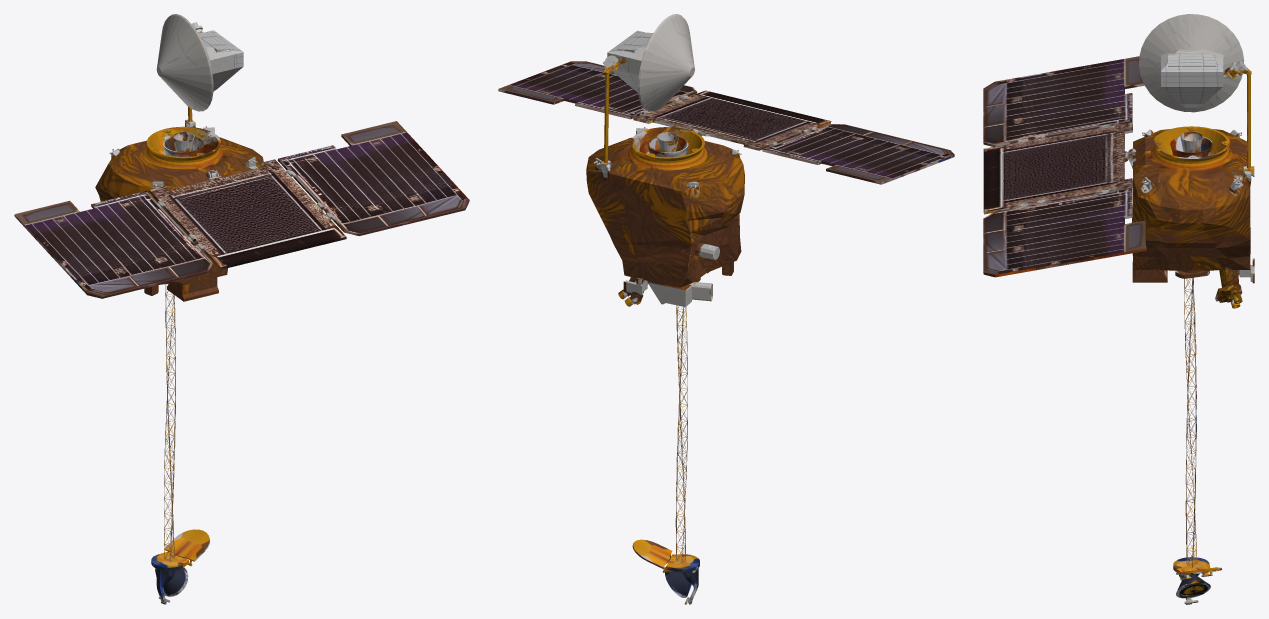
Rendered from marsodessay1.glb.
3 renders of one model, left to right at view 1: azimuth 30°, elevation 25°; view 2: azimuth 150°, elevation 25°; view 3: azimuth 270°, elevation 25°, orthographic. The views are drawn at different scales.
Parts seen in each view (by area): view 1: tripo_node_7899d9ef-e206-4824-a566-14c5953bdb96; view 2: tripo_node_7899d9ef-e206-4824-a566-14c5953bdb96; view 3: tripo_node_7899d9ef-e206-4824-a566-14c5953bdb96.
Part boxes in pixels (left/top/right/bottom): tripo_node_7899d9ef-e206-4824-a566-14c5953bdb96: left=14, top=14, right=469, bottom=604; tripo_node_7899d9ef-e206-4824-a566-14c5953bdb96: left=498, top=14, right=954, bottom=604; tripo_node_7899d9ef-e206-4824-a566-14c5953bdb96: left=983, top=14, right=1254, bottom=604.
Bounding box in the file's own units: 0.6895 × 1 × 0.4087.
1 material, 1 textured.
